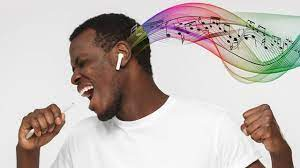earphone: (113, 41, 132, 70)
